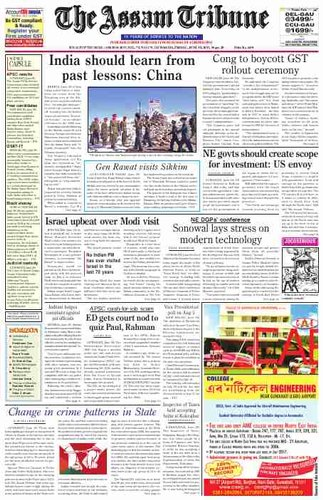news_paper: (1, 2, 323, 498)
